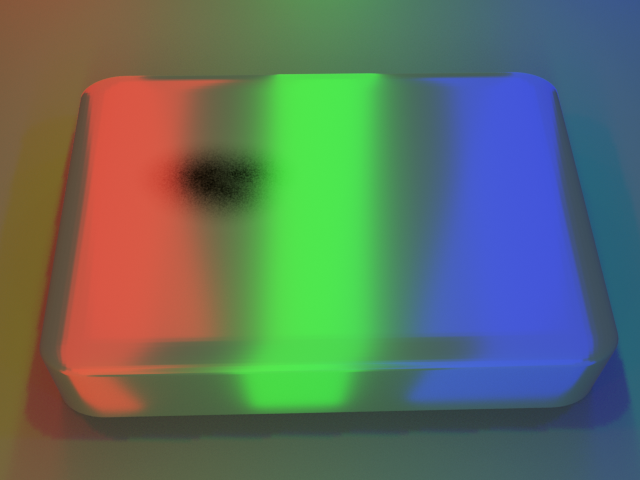stain: (102, 122, 302, 233)
